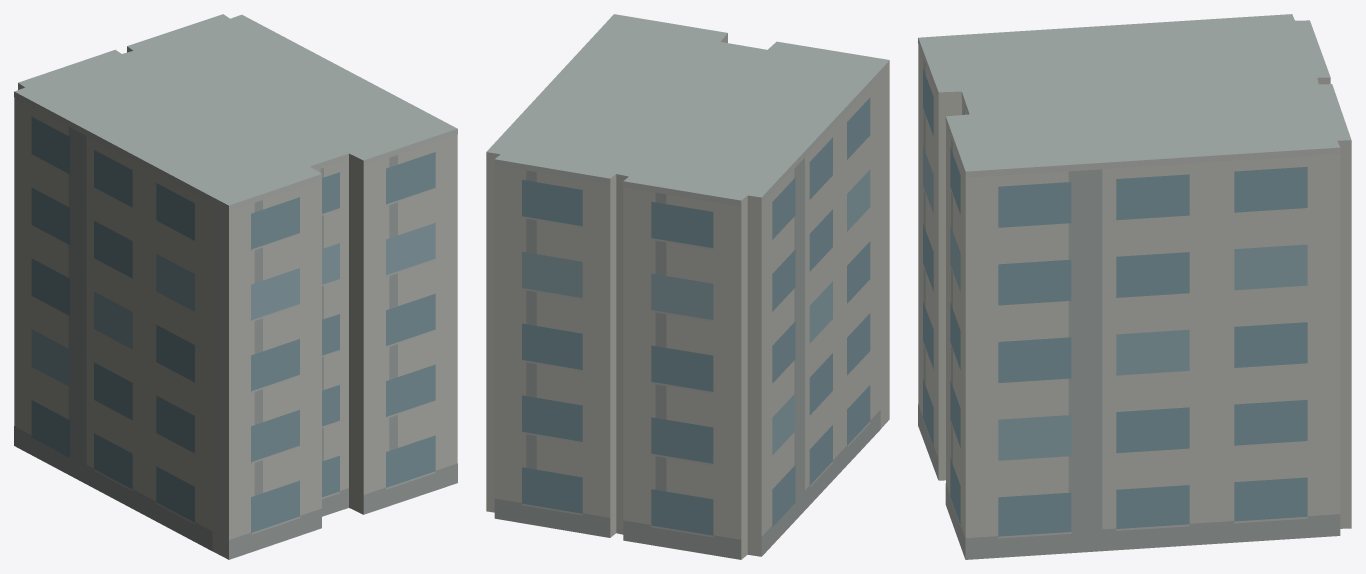
Rendered from survey-upis-32638080.glb.
3 renders of one model, left to right at view 1: azimuth 30°, elevation 25°; view 2: azimuth 150°, elevation 25°; view 3: azimuth 270°, elevation 25°, orthographic. The views are drawn at different scales.
Visible parts, largest first — view 1: survey-upis-32638080.tmp; view 2: survey-upis-32638080.tmp; view 3: survey-upis-32638080.tmp.
Part boxes in pixels (x1,y1,x2,y2): survey-upis-32638080.tmp: (14,14,457,559); survey-upis-32638080.tmp: (486,14,889,559); survey-upis-32638080.tmp: (918,14,1351,559).
Bounding box in the file's own units: 12.63 × 14.5 × 14.68.
